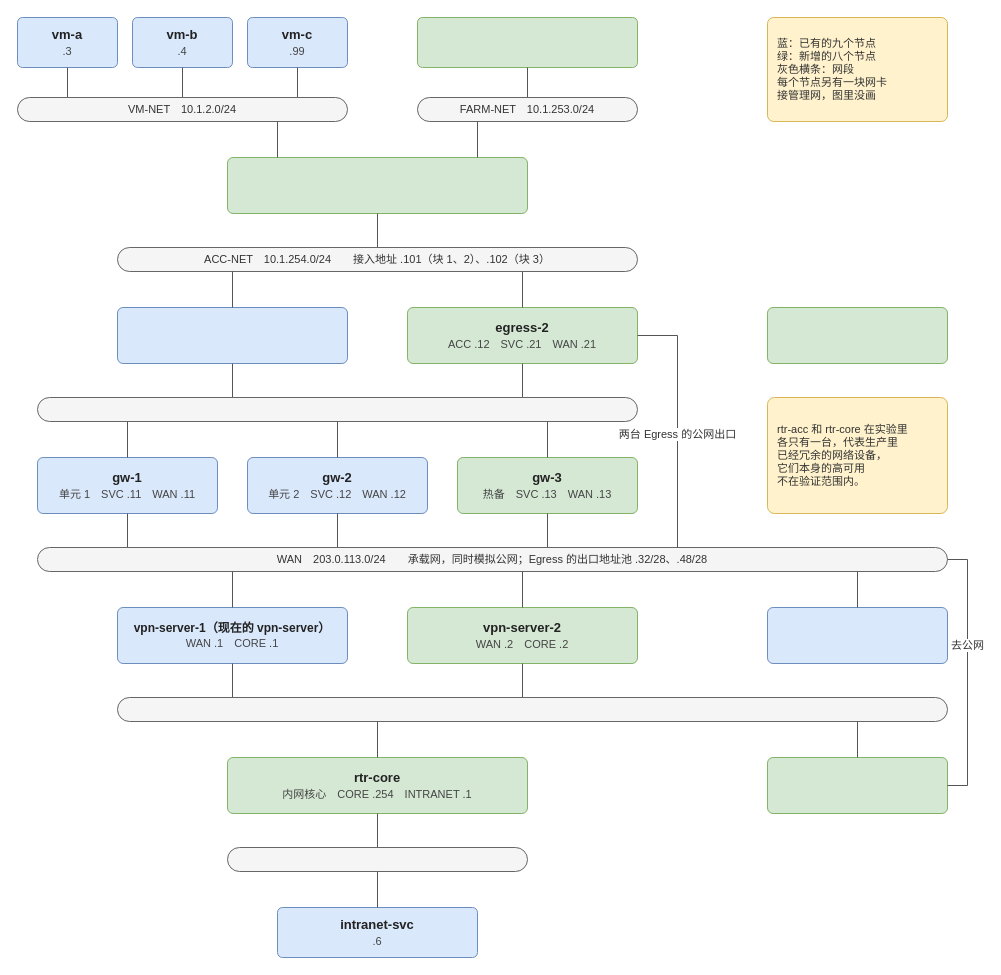
Image size: 1001x975. Some labels were removed from this diagram. Each missing label, with the box of its shape:
CORE-NET 10.200.0.0/24: (116, 696, 948, 722)
corp-exit 企业互联网出口 CORE .253 WAN .253: (766, 756, 948, 814)
ctrl 控制面、观测 走管理网: (766, 306, 948, 364)
egress-1（现在的 egress） ACC .11 SVC .20 WAN .20: (116, 306, 348, 364)
INTRANET 10.200.5.0/24: (226, 846, 528, 872)
public-web WAN .80: (766, 606, 948, 664)
rtr-acc 按块引流、校验源地址 各网段的 .1: (226, 156, 528, 214)
SVC-NET 10.1.255.0/24 单元的服务地址 .10（单元 1）、.30（单元 2）: (36, 396, 638, 422)
vm-farm 模拟 10.2.0.0/16、10.3.0.0/16: (416, 16, 638, 68)
